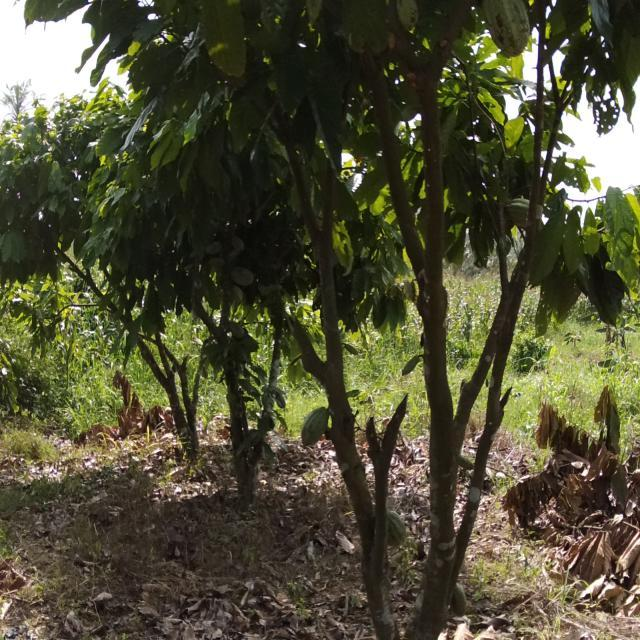Mature_Unripe: (477, 3, 545, 64), (296, 400, 333, 454), (507, 194, 545, 246), (230, 270, 259, 314), (384, 509, 412, 547), (449, 580, 473, 622)
